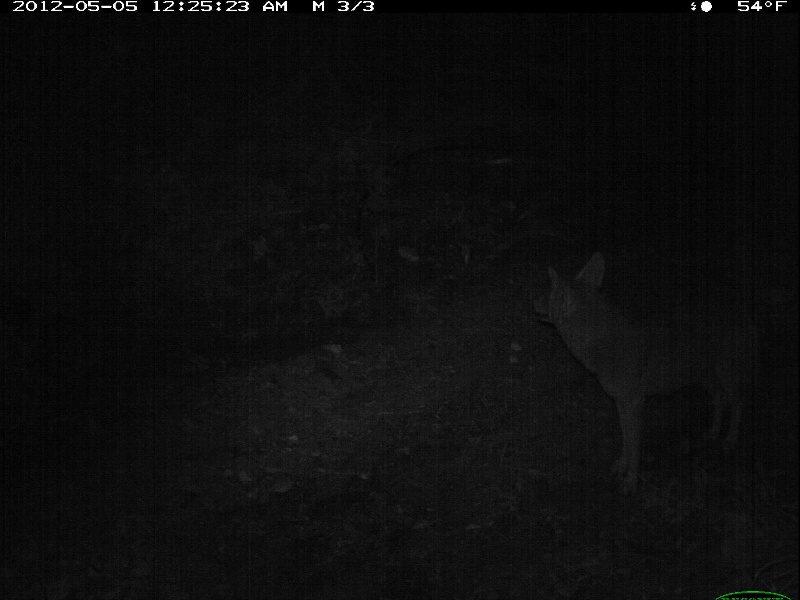coyote: (532, 248, 793, 497)
